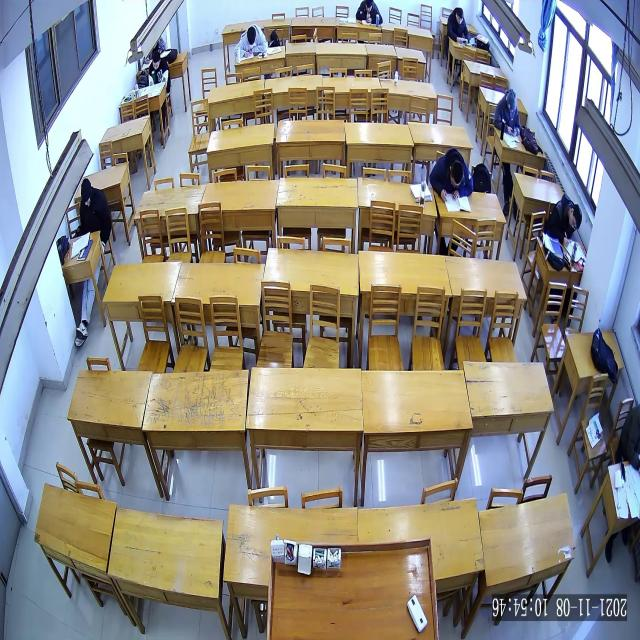bow: (428, 147, 473, 202), (233, 23, 268, 58), (354, 1, 383, 26)
down: (448, 159, 465, 189), (567, 202, 582, 235), (80, 178, 92, 208), (505, 88, 518, 114), (245, 26, 258, 48), (151, 50, 162, 72), (455, 6, 464, 26), (364, 0, 373, 14)
sit: (78, 177, 112, 241), (544, 192, 582, 249), (493, 87, 522, 137), (446, 6, 471, 47), (147, 49, 171, 87)
